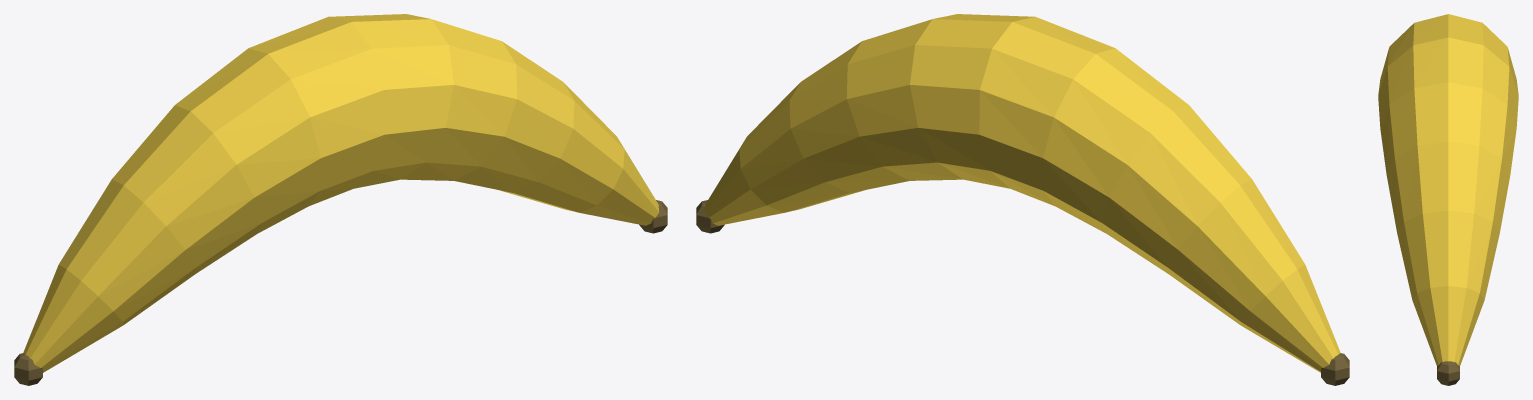
Rendered from banana.obj.
The picture shows the model from 3 angles, left to right: view 1: azimuth 30°, elevation 25°; view 2: azimuth 150°, elevation 25°; view 3: azimuth 270°, elevation 25°; orthographic projection. The views are drawn at different scales.
Size of the model in its own units: 1.3 by 0.5385 by 0.3.
